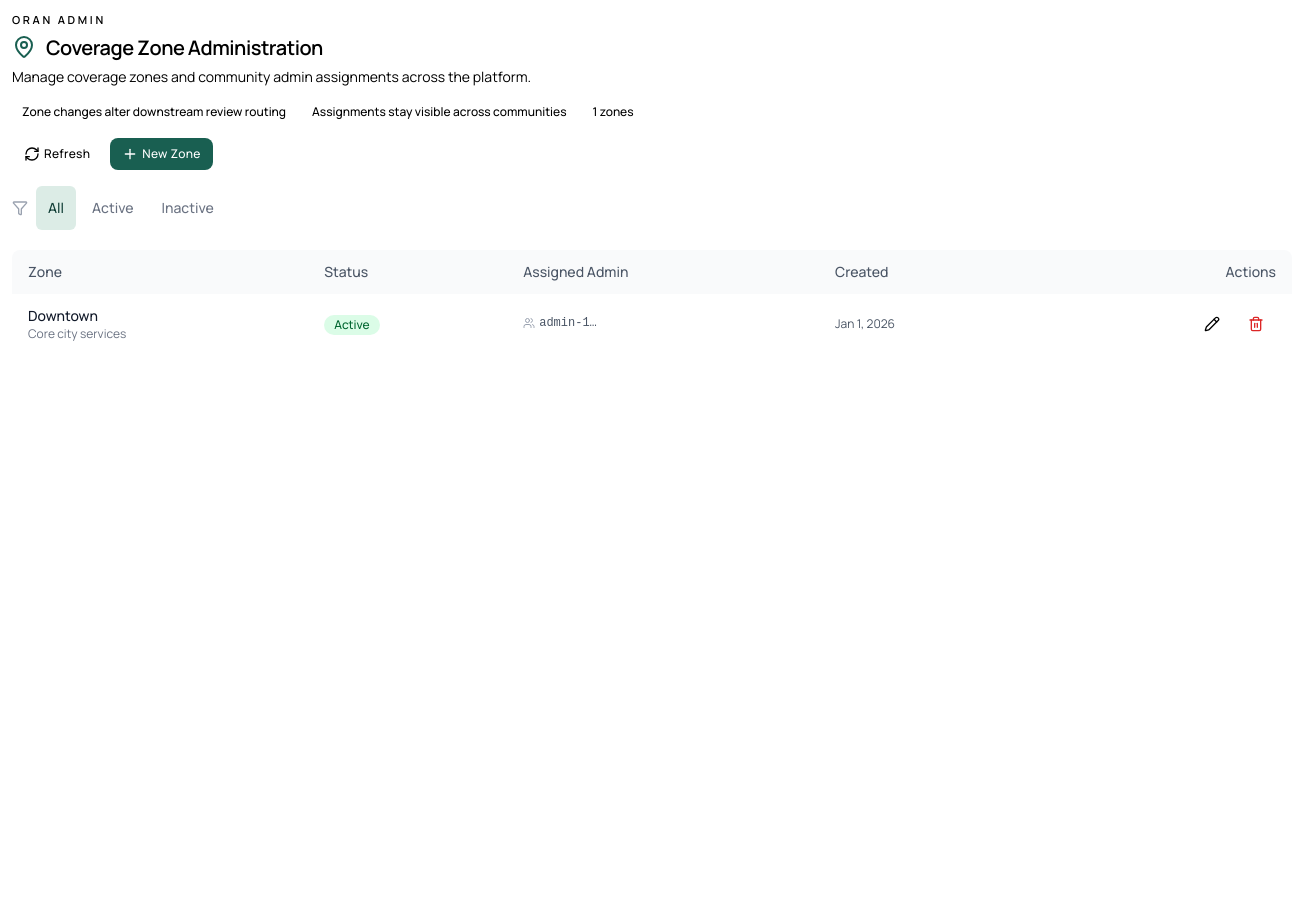
Test case: oran admin zone management page › edits an existing zone and saves changes
The width and height of the screenshot is (1292, 912).
Expected: the text "Downtown" is shown, [28,306,98,325]
Click the button named "Edit Downtown" at (1212, 324), box [1192,308,1232,340]
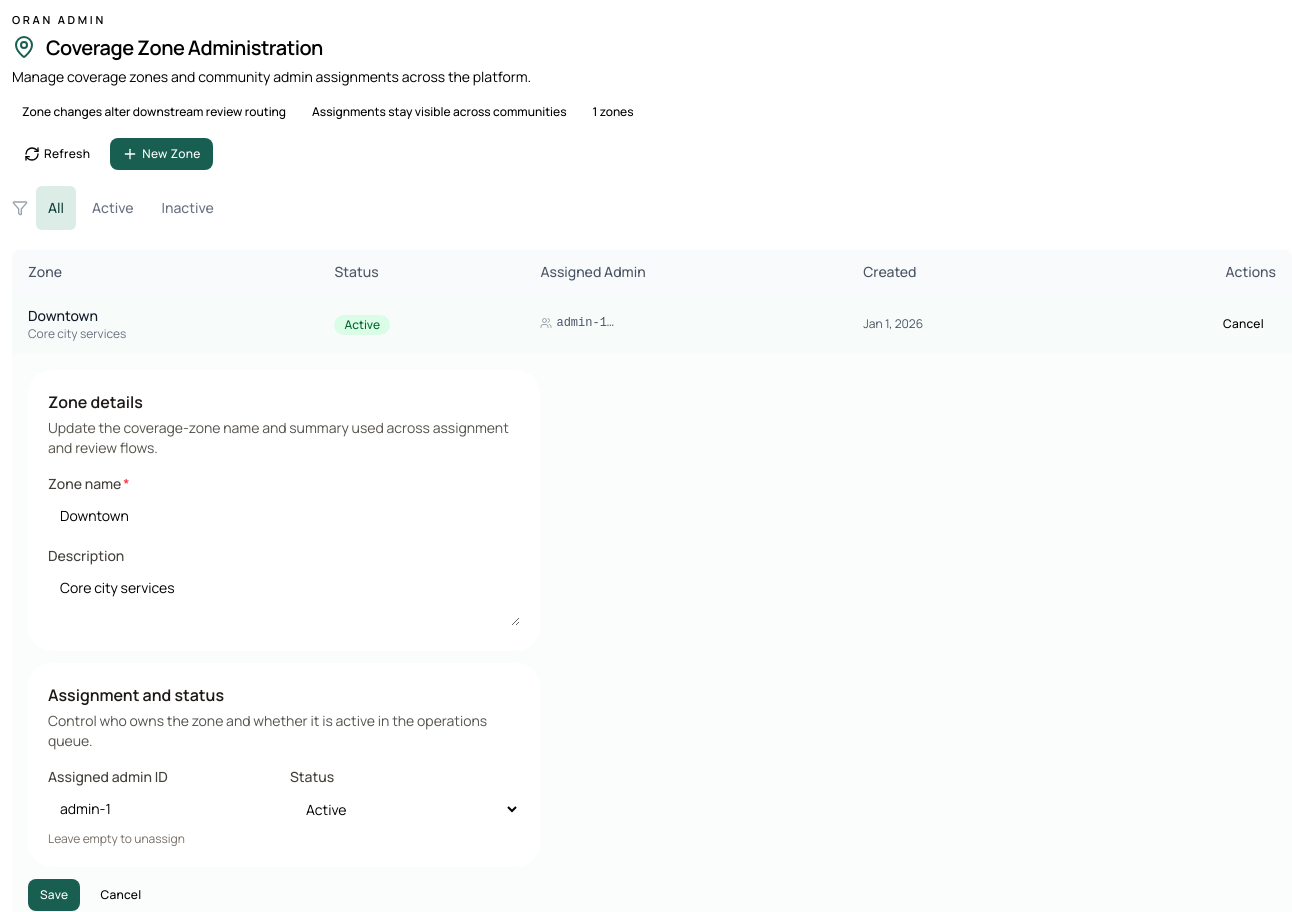
Replace the text in the field labelled "Zone name*" with "Downtown East" at (284, 516), box [48,498,520,534]
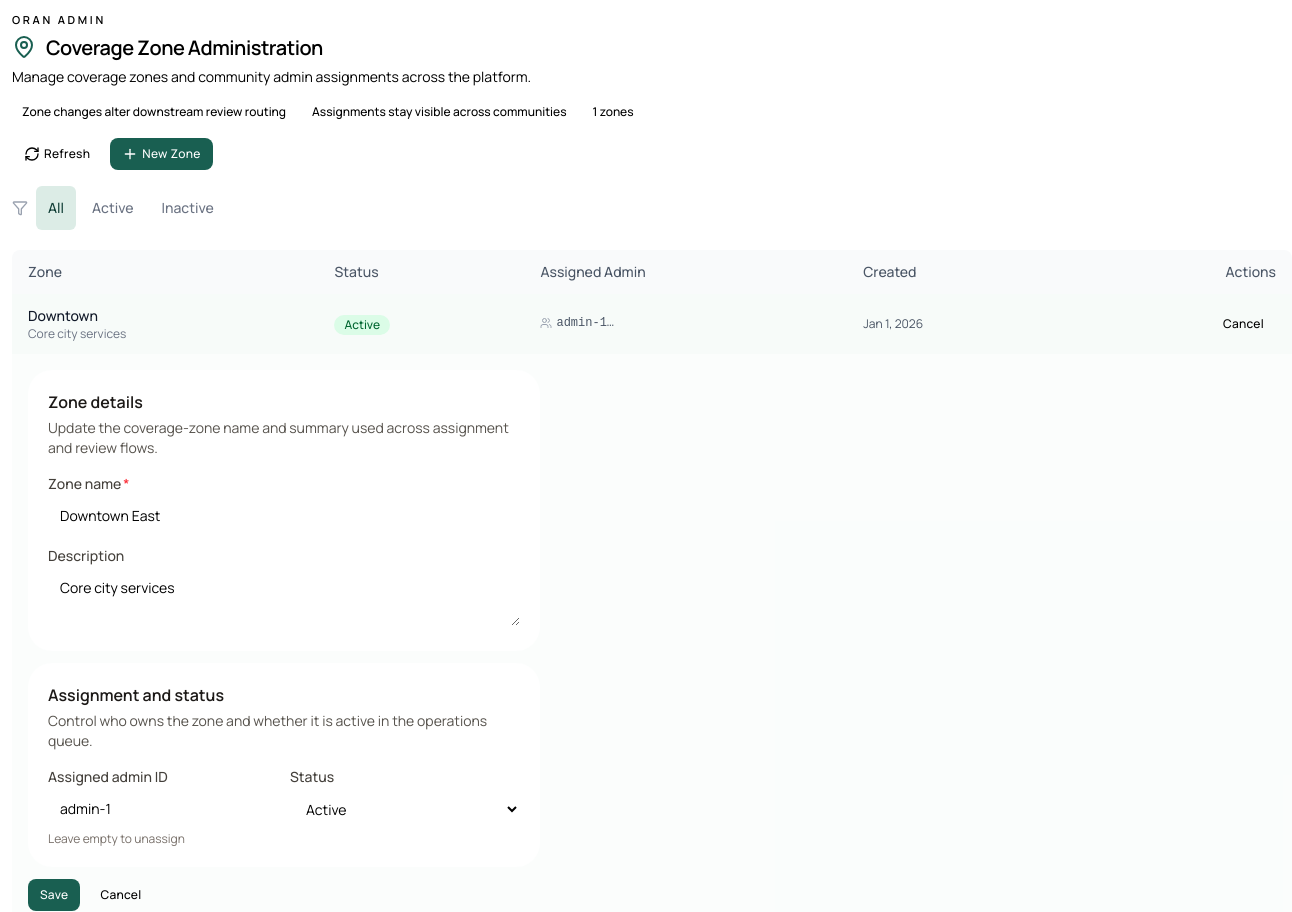
Replace the text in the text box labelled "Description" with "Reassigned district" at (284, 598), box [48,570,520,626]
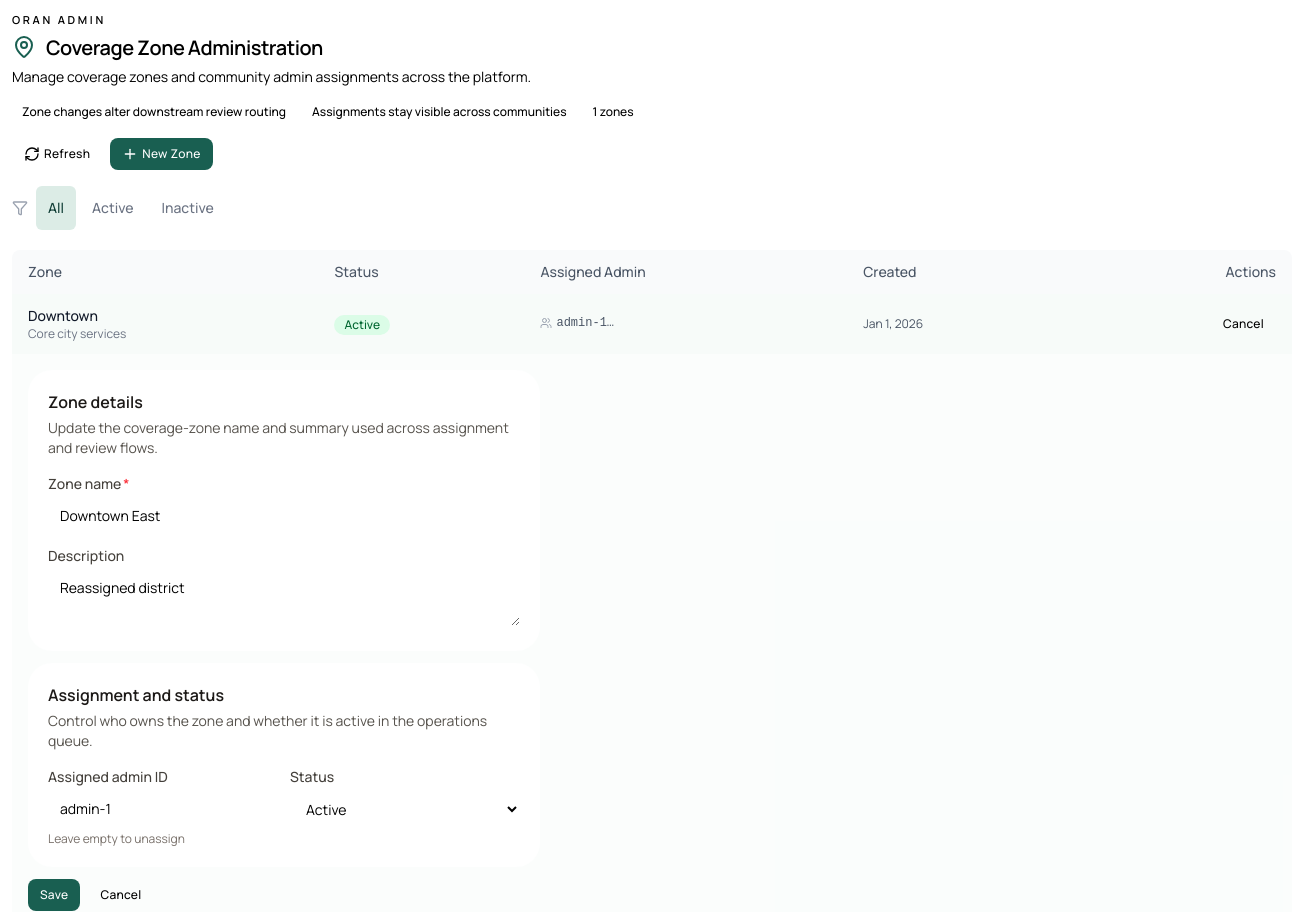
Replace the text in the field labelled "Assigned admin ID" with "admin-9" at (163, 809), box [48,791,278,827]
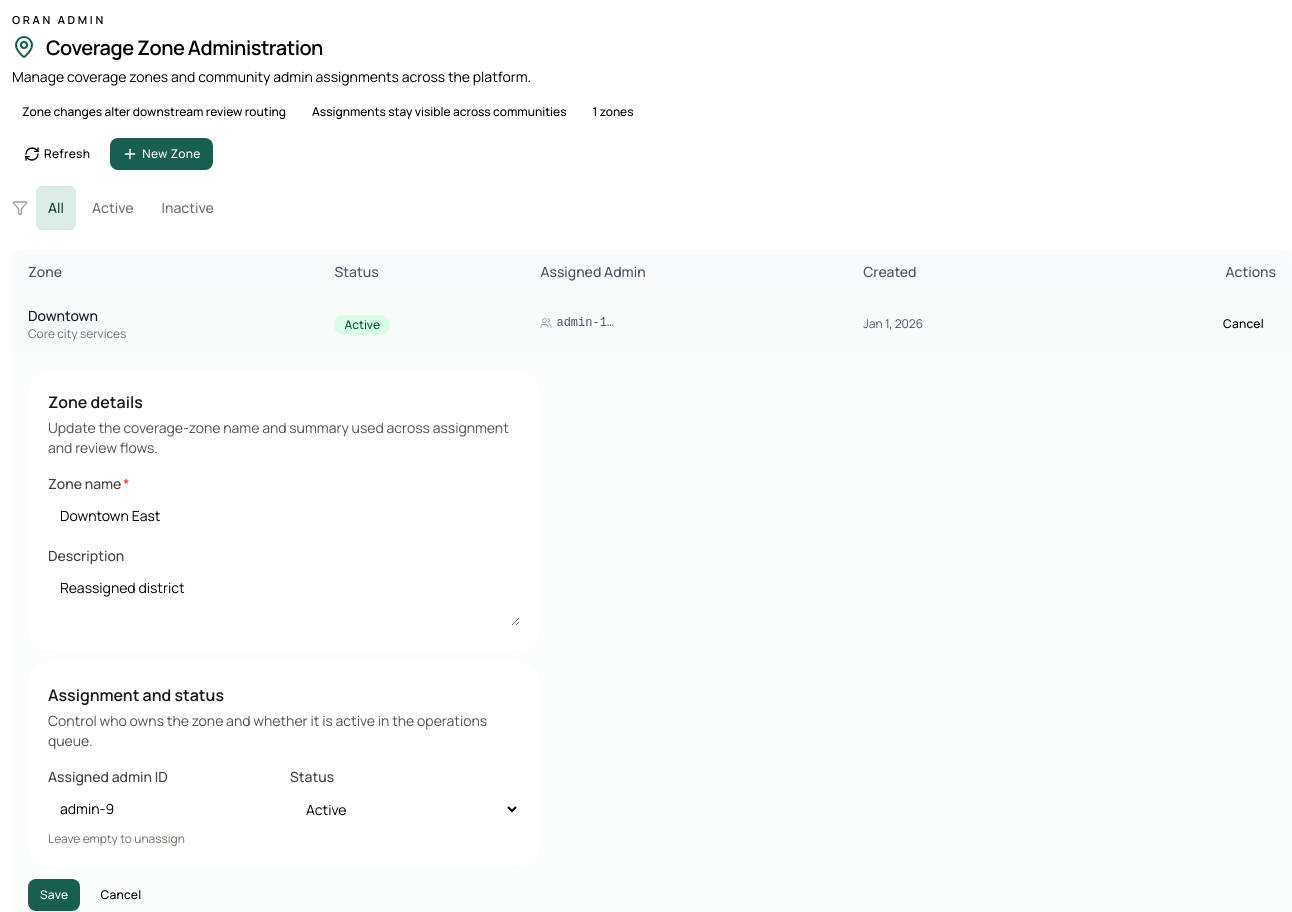
Select "Inactive" in the dropdown labelled "Status" at (405, 810), box [290,791,520,828]
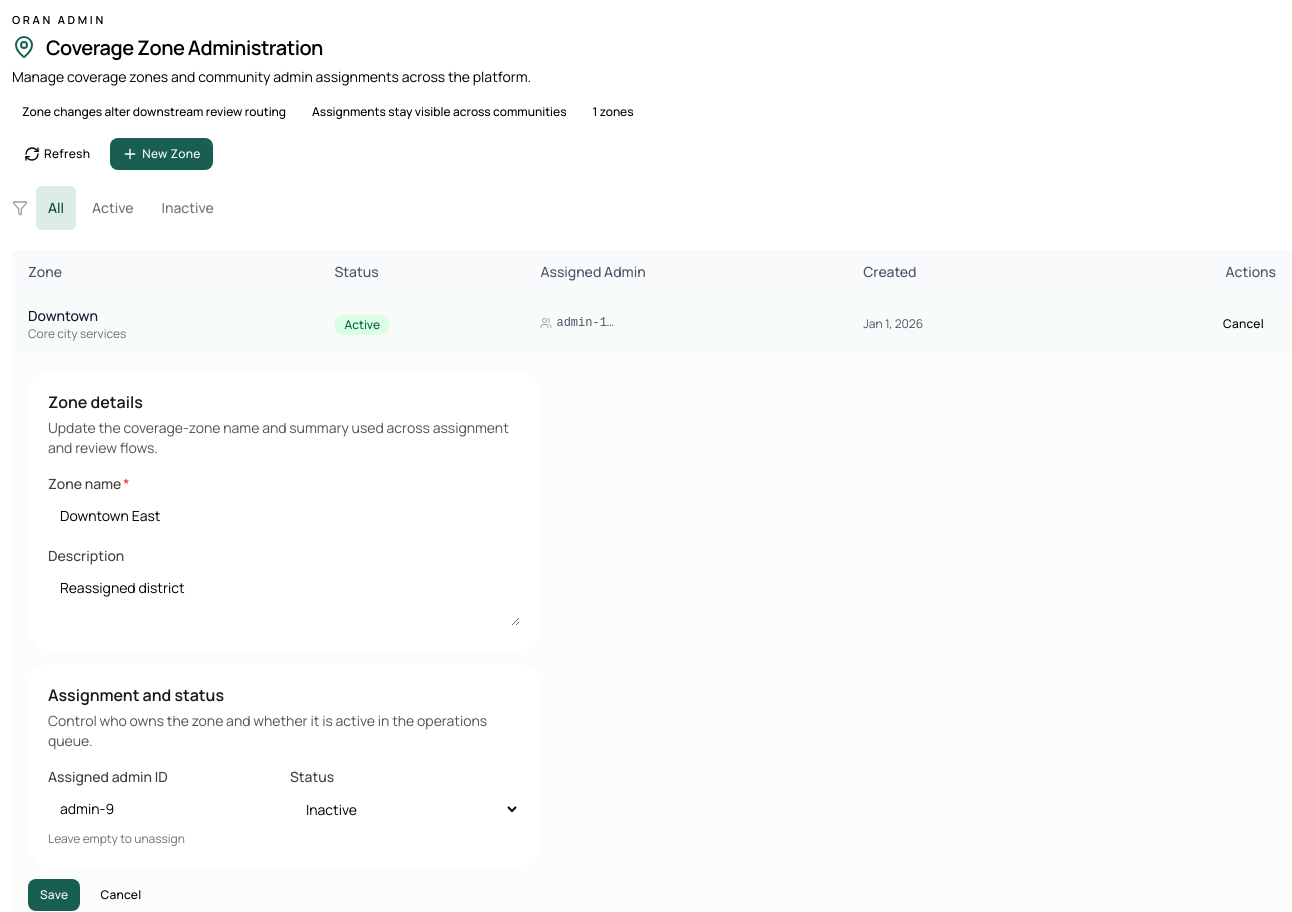
Click the button "Save" at (54, 895), box [28,879,80,911]
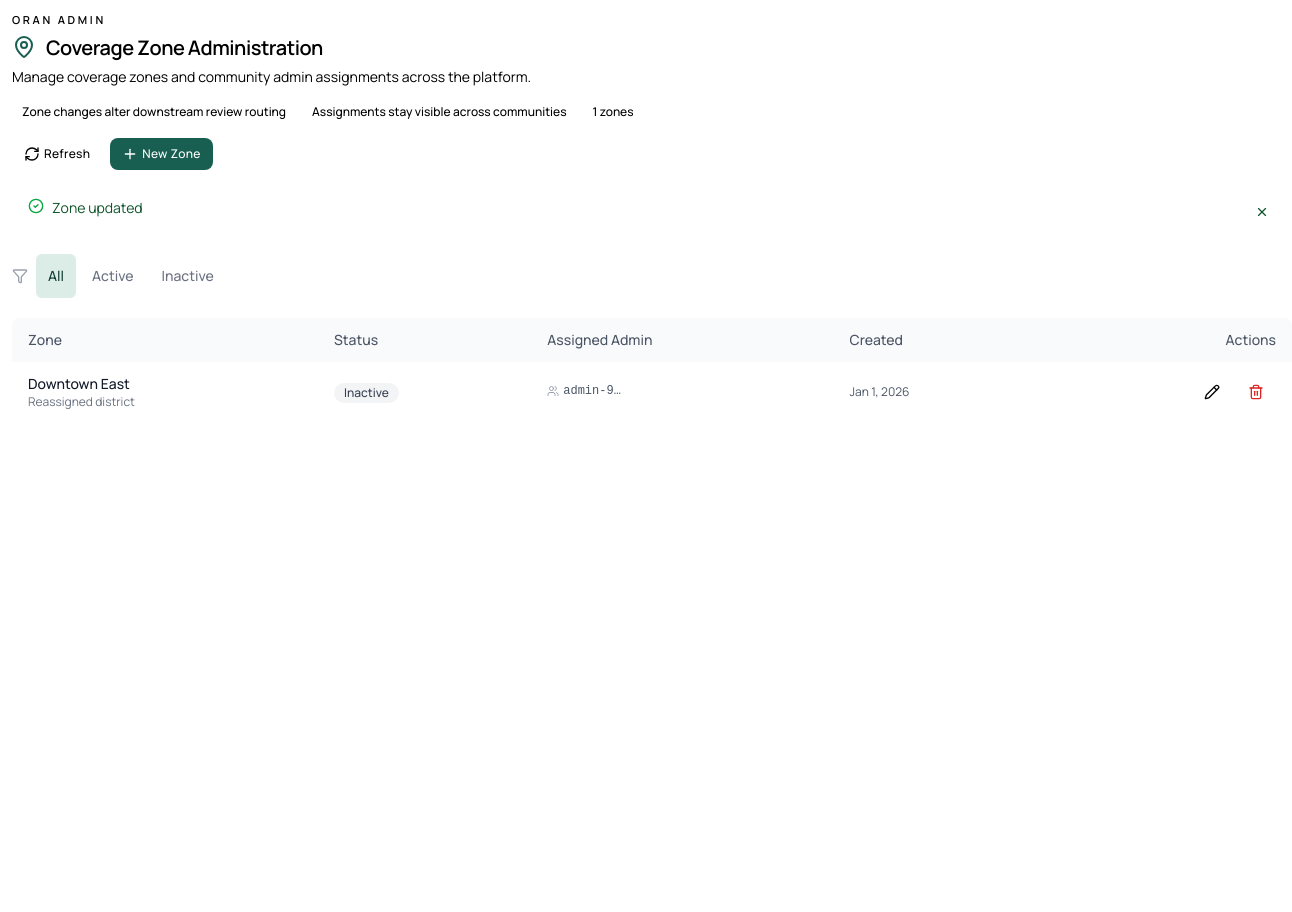
Expected: the message reads "Zone updated", [52,198,143,217]
Expected: the text "Downtown East" is shown, [28,374,130,393]
